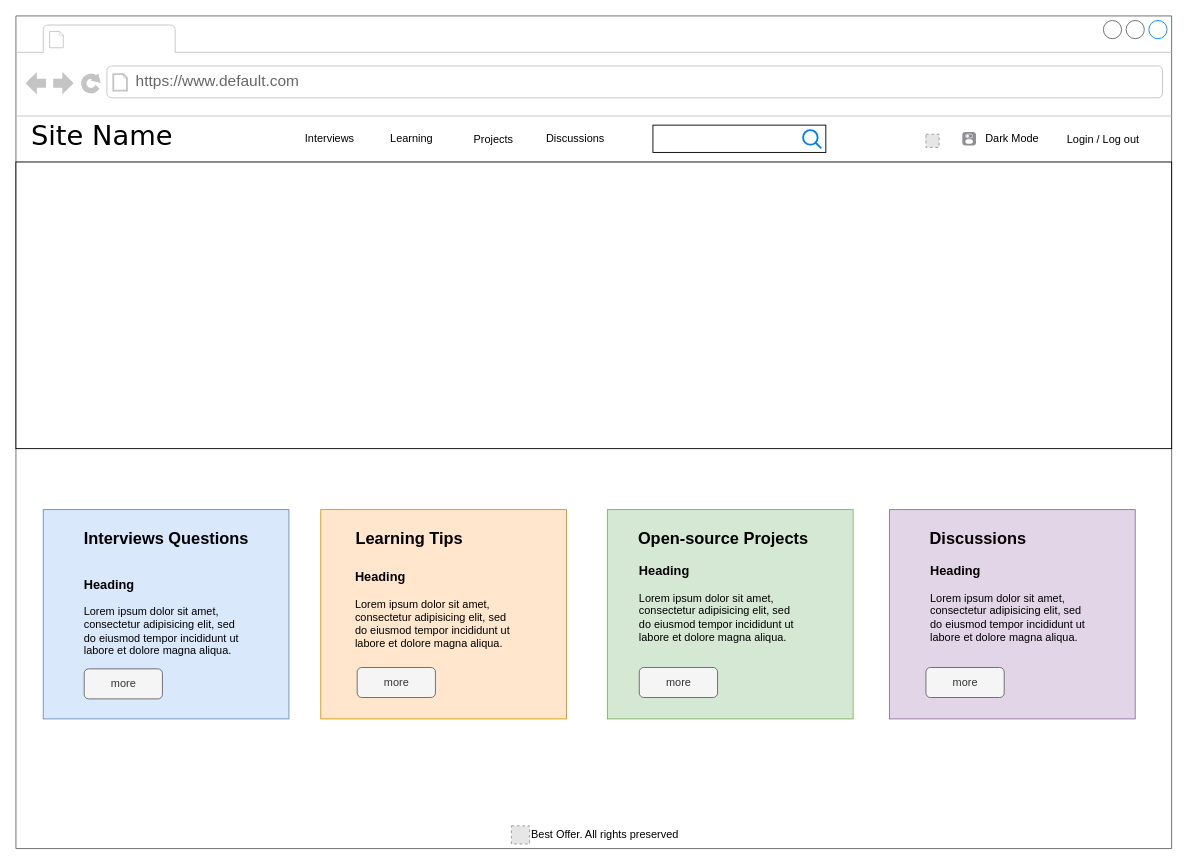
This 1188x865 diagram has some shape labels left out. Grey dashed boxes stand in for pictures. Each missing label, with the box of its shape:
Home: (70, 26, 171, 51)
Our slogan: (15, 161, 1172, 449)
